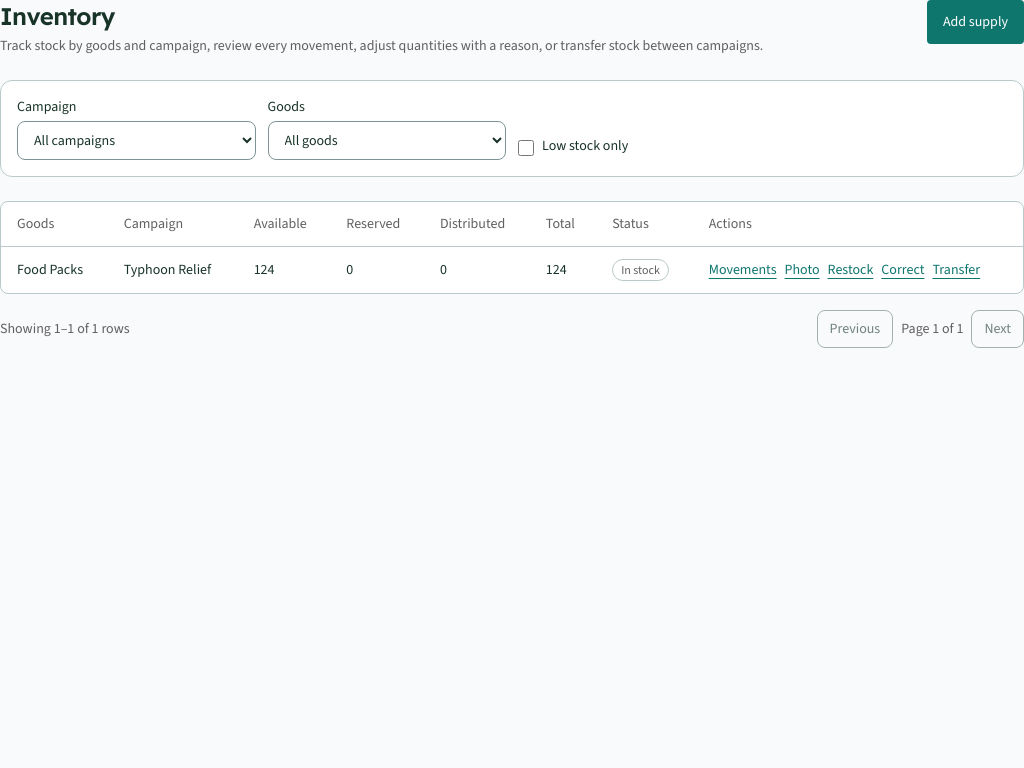
Test: InventoryPage › shows movement history for a stock row
The width and height of the screenshot is (1024, 768).
Step 1. Click the button "Movements" → (743, 270), box [709,260,776,280]
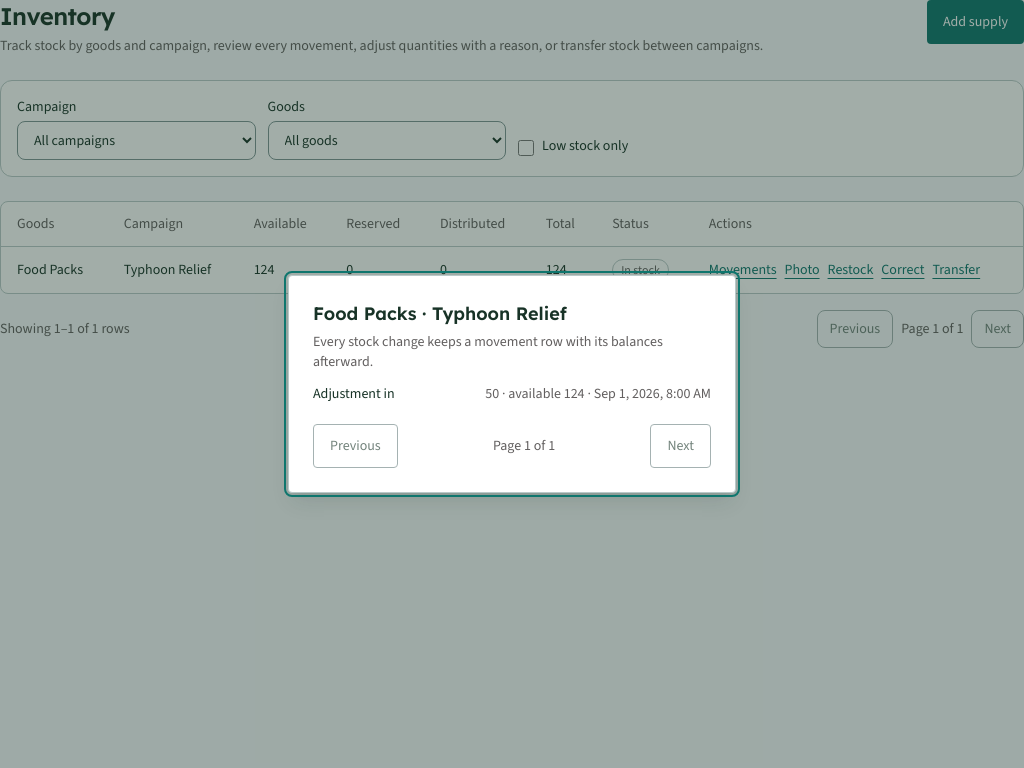
Check: the text "Adjustment in" is shown, box [313,384,395,404]
Check: the text "50 · available 124 · Sep 1, 2026, 8:00 AM" is shown, box [485,384,711,404]
